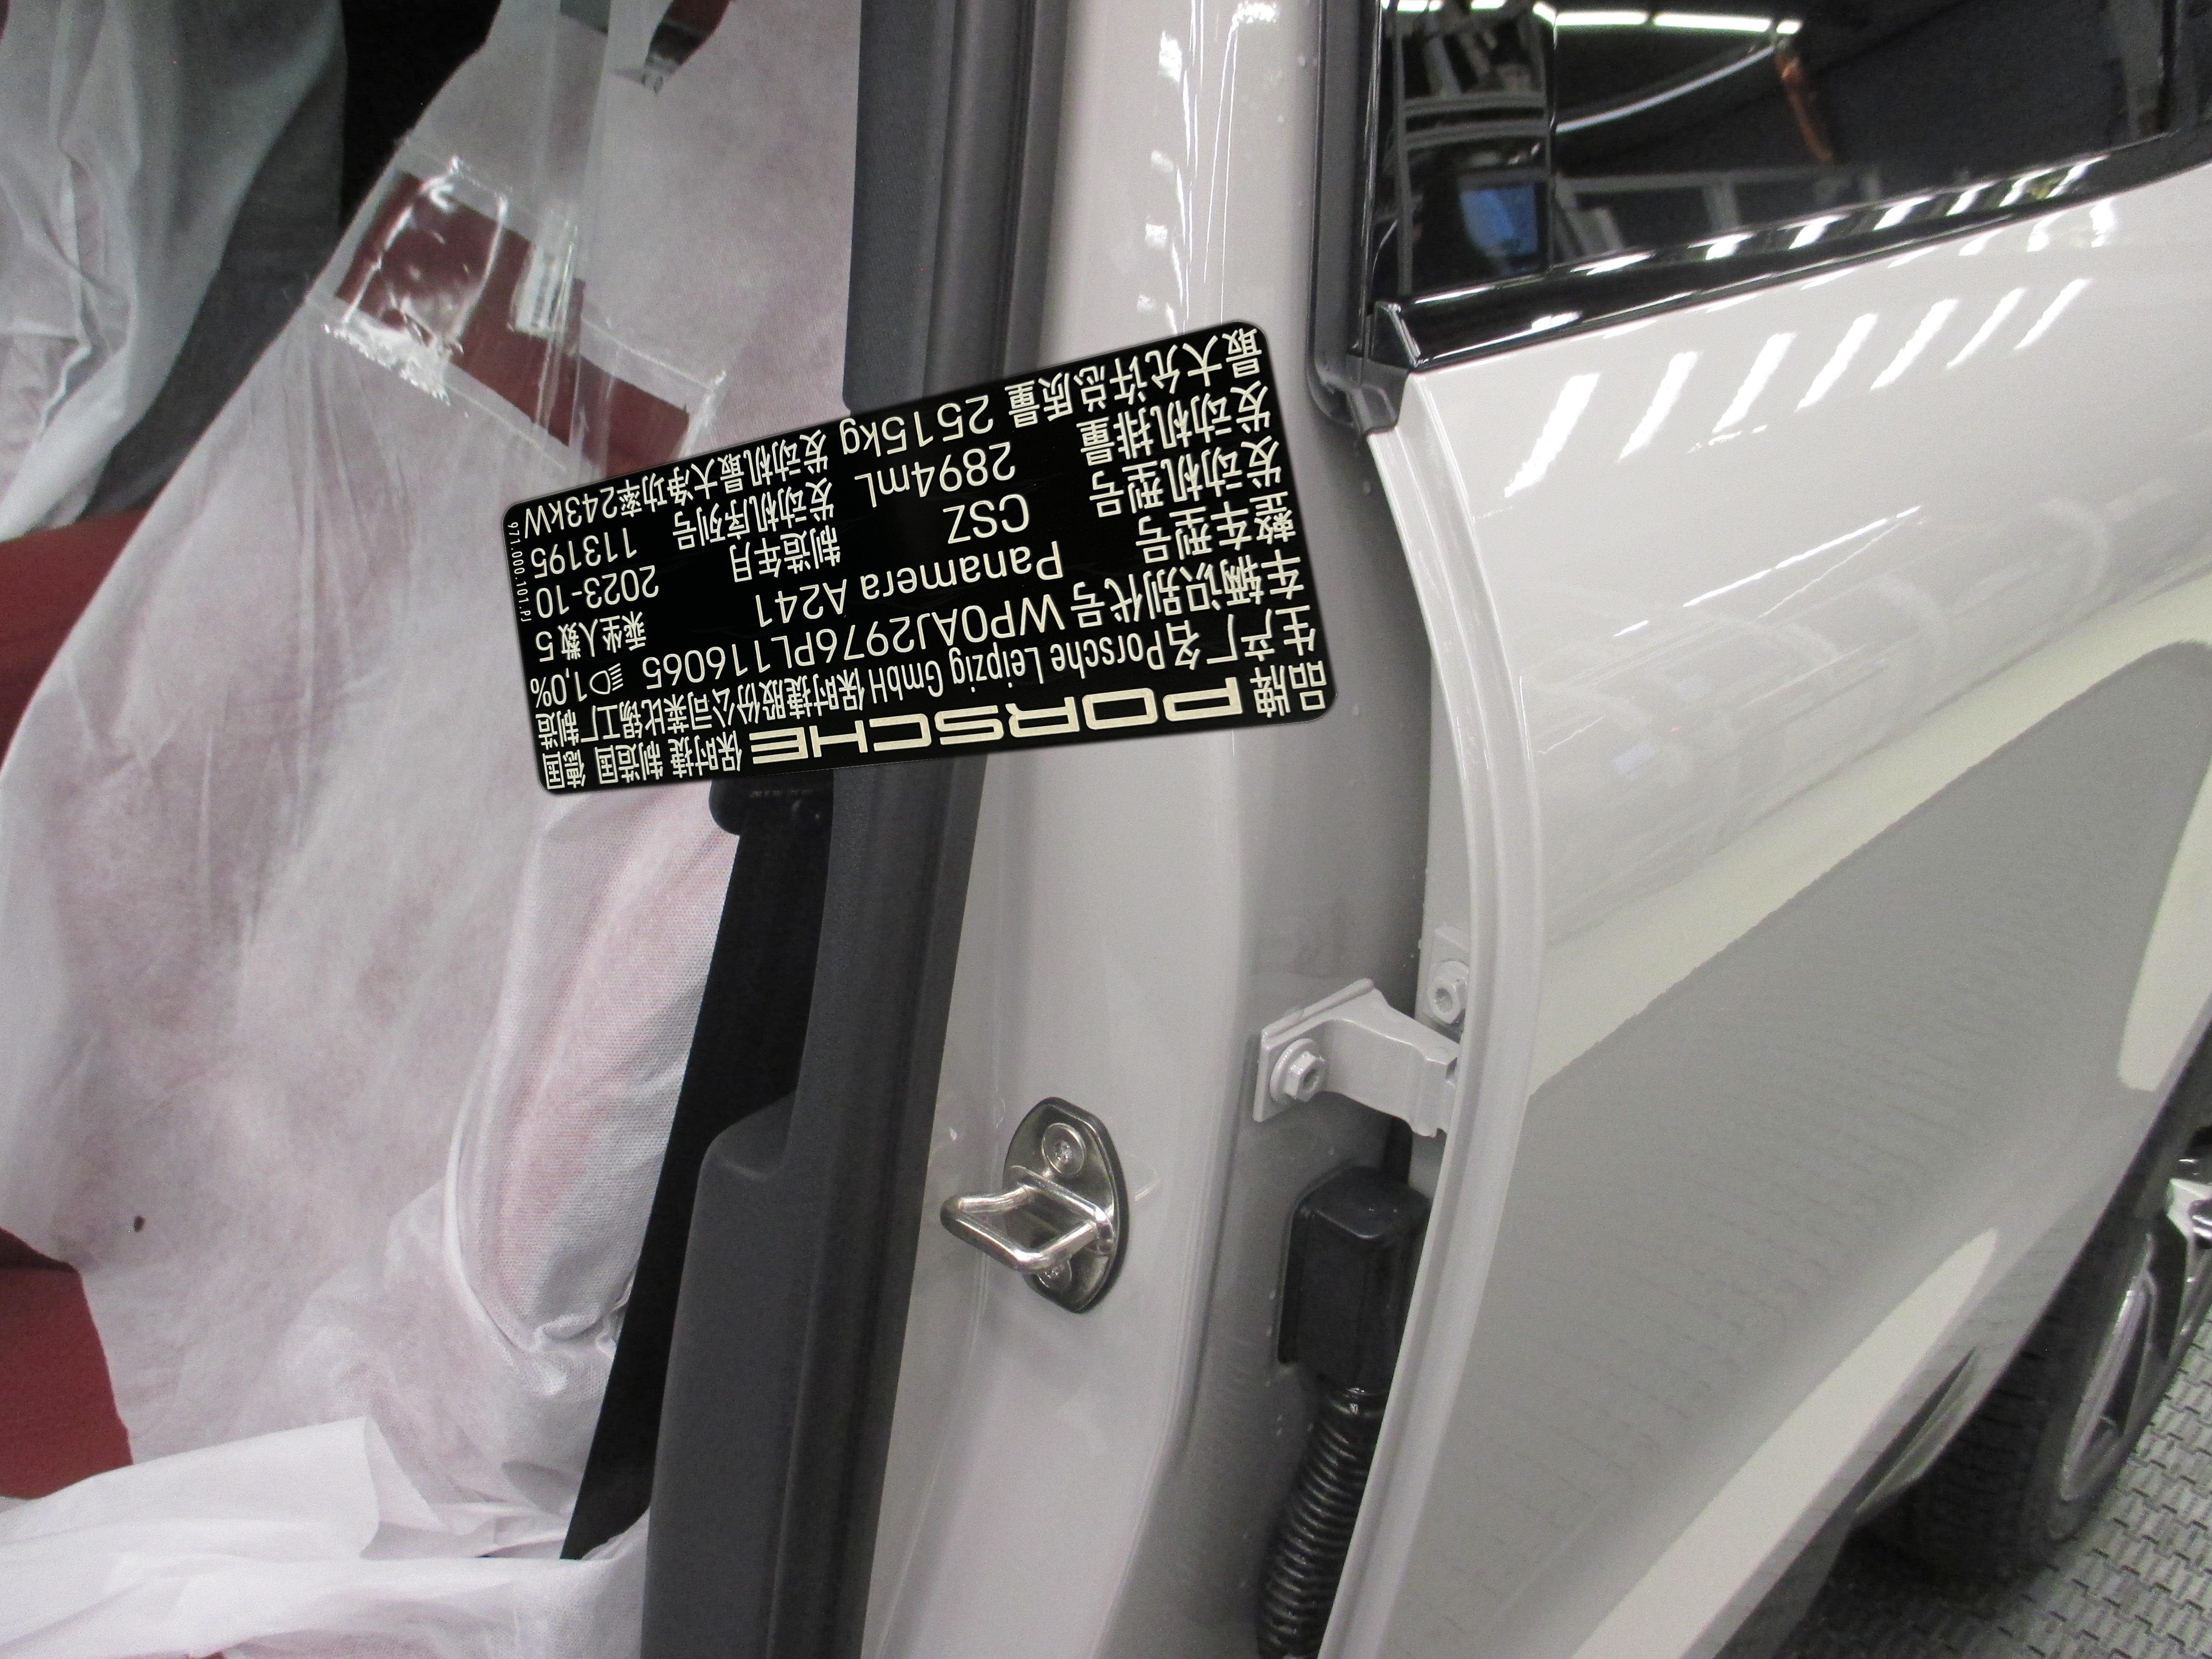Typlabel-China: (502, 321, 1336, 795)
